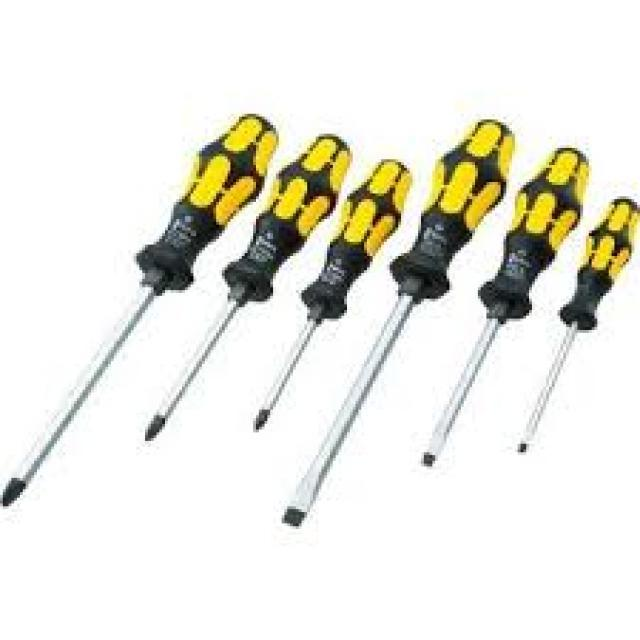screwdriver: (0, 109, 287, 513), (278, 108, 520, 526), (142, 122, 358, 447), (417, 146, 596, 471), (254, 150, 414, 436), (518, 192, 638, 457)
